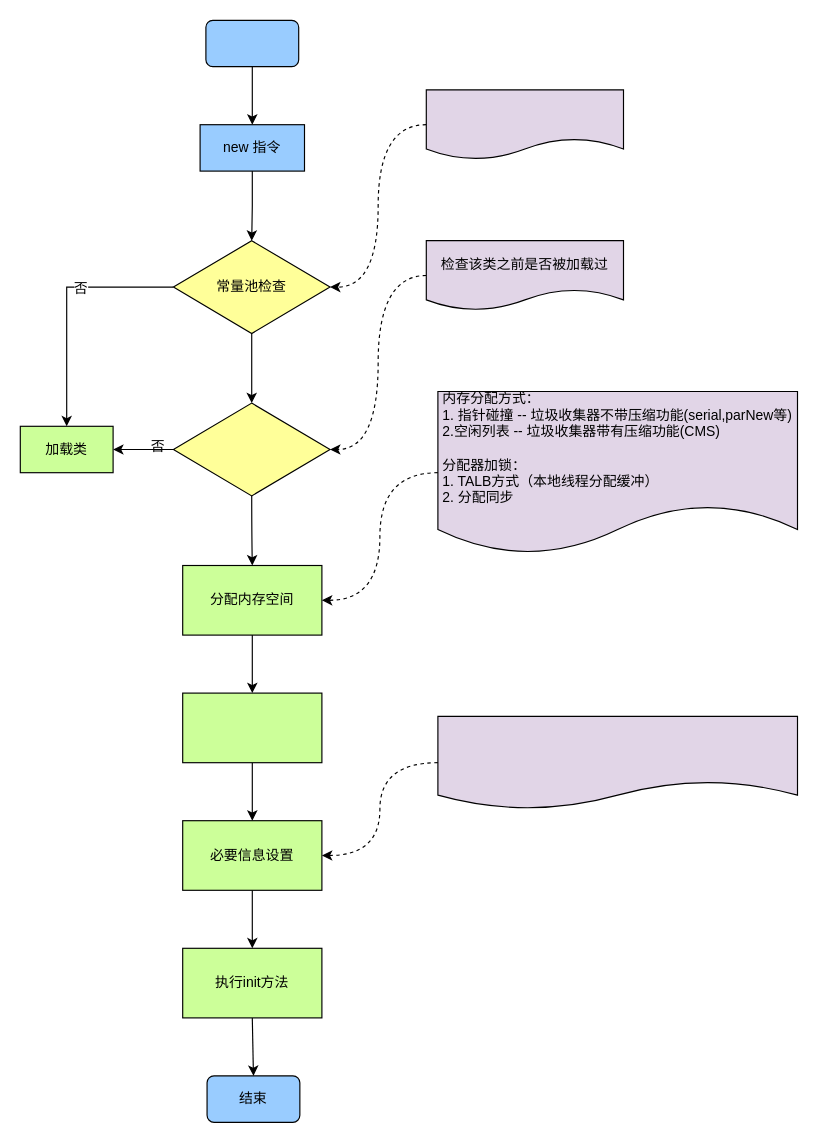
This 818x1143 diagram has some shape labels left out. The centre of each missing label's shape, as x and y in pixels:
"内存空间初始化为零值" goes at point 252,727.
"对象属于哪个类的实例，如何才能找到类的元数据信息，对象的哈希码，对象的GC分代年龄等。这些信息保存在对象的对象头中。" goes at point 617,762.
"开始" goes at point 252,43.
"是否已加载" goes at point 251,449.
"检查这个指令是否能在常量池中定位到一个类的符号引用" goes at point 524,124.
